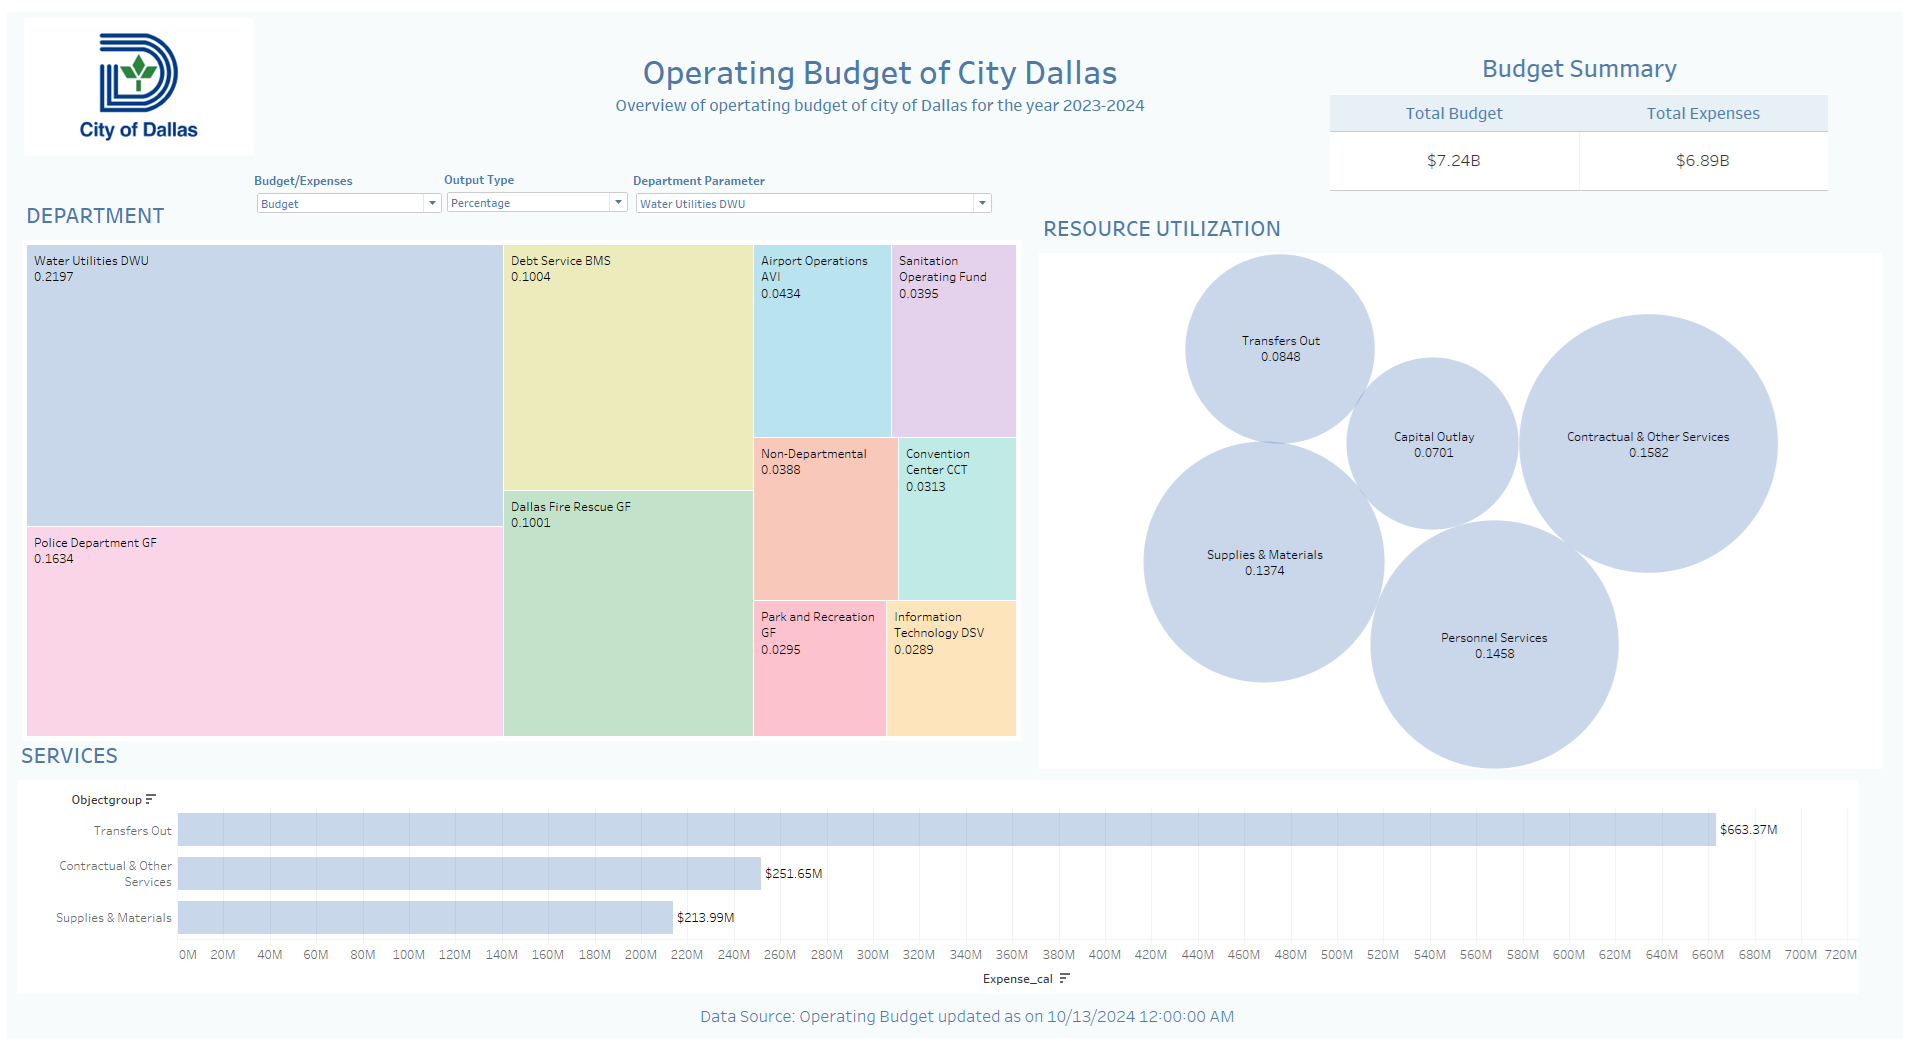

The page's visual inventory and layout, read from the dashboard file:
{"tool":"tableau","page":{"name":"Dashboard 1","canvas":[1000,1000],"units":"permille","ordinal":0},"visuals":[{"type":"blank","box":[4.7,8.9,990.5,982.1]},{"type":"image","param":"Image/city-of-dallas-logo.png","box":[15,17.5,183,131.2]},{"type":"text","box":[190.2,20.1,541.6,117.2]},{"type":"worksheet","title":"Totals","mark":"Automatic","box":[695.1,44.6,259.8,137.3]},{"type":"parameter","param":"[Parameters].[Parameter 2]","box":[233.9,163,97.5,53.6]},{"type":"parameter","param":"[Parameters].[Parameter 1]","box":[134.7,164.1,99.2,48]},{"type":"parameter","param":"[Parameters].[Department Parameter]","box":[332.6,164.1,188.4,46.9]},{"type":"worksheet","title":"HeatMap","mark":"Automatic","box":[14.2,186.4,520.4,519]},{"type":"worksheet","title":"Bubble","mark":"Circle","box":[544,198.7,438.9,533.5]},{"type":"worksheet","title":"BarChart","mark":"Automatic","rows":["OBJECTGROUP"],"cols":["Calculation_501025461848657924"],"box":[11.2,700.9,959.2,251.1]},{"type":"worksheet","title":"Date","mark":"Automatic","box":[365.1,952,329.4,32.4]}]}

Visuals, with their boxes on the dashboard's canvas, which has no fixed pixel size, in thousandths of its width and height (x1, y1, x2, y2). These are canvas units, not pixel positions in the 1914x1044 screenshot, which may show the page scaled, cropped or inside an application window:
blank: pyautogui.locateOnScreen(5, 9, 995, 991)
image: pyautogui.locateOnScreen(15, 18, 198, 149)
text: pyautogui.locateOnScreen(190, 20, 732, 137)
"Totals" worksheet: pyautogui.locateOnScreen(695, 45, 955, 182)
parameter: pyautogui.locateOnScreen(234, 163, 331, 217)
parameter: pyautogui.locateOnScreen(135, 164, 234, 212)
parameter: pyautogui.locateOnScreen(333, 164, 521, 211)
"HeatMap" worksheet: pyautogui.locateOnScreen(14, 186, 535, 705)
"Bubble" worksheet (Circle marks): pyautogui.locateOnScreen(544, 199, 983, 732)
"BarChart" worksheet: pyautogui.locateOnScreen(11, 701, 970, 952)
"Date" worksheet: pyautogui.locateOnScreen(365, 952, 694, 984)
